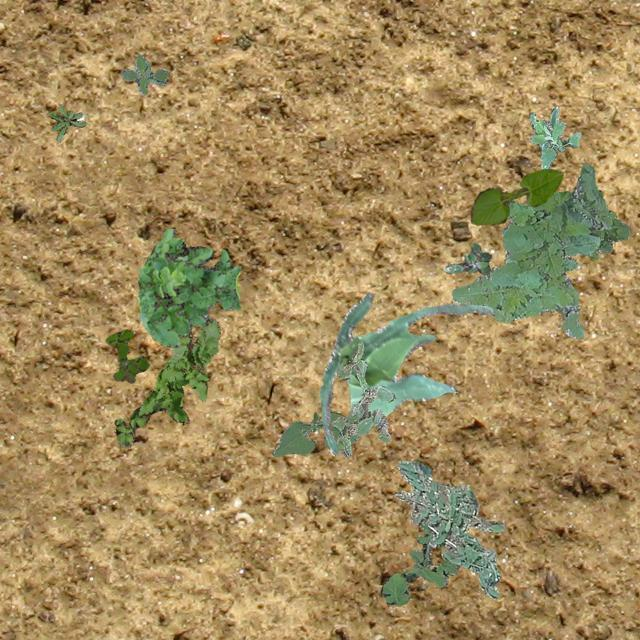crop: (318, 292, 492, 454), (469, 168, 562, 224), (272, 411, 358, 456)
weed: (450, 162, 612, 336), (394, 460, 504, 598), (113, 318, 220, 447), (136, 228, 240, 346), (330, 339, 396, 456), (530, 191, 630, 257), (379, 522, 458, 604), (528, 105, 580, 168), (104, 328, 148, 382), (120, 54, 168, 94), (442, 242, 490, 274), (48, 104, 86, 140)
